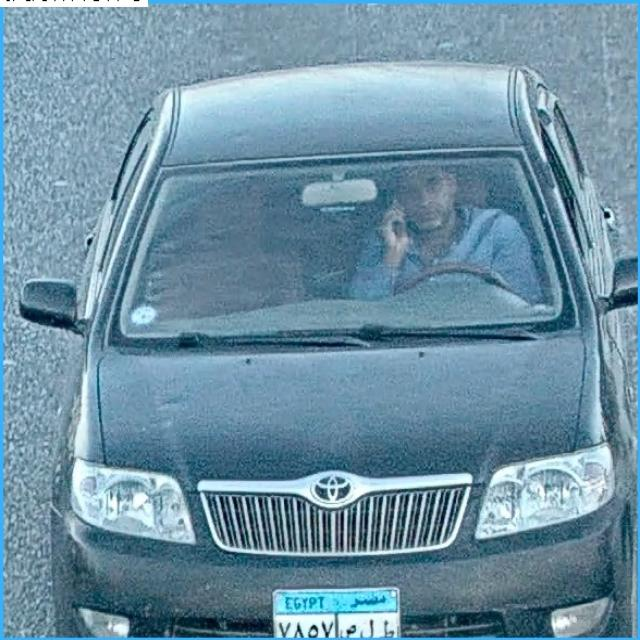windshield: (116, 152, 572, 334)
